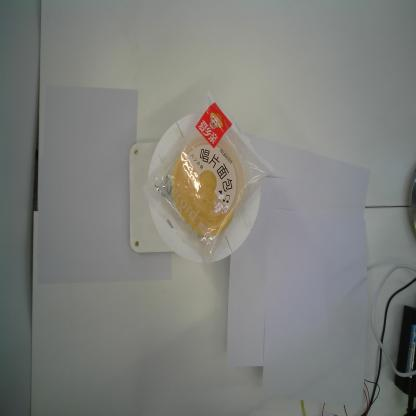Dessert: (138, 88, 275, 272)
